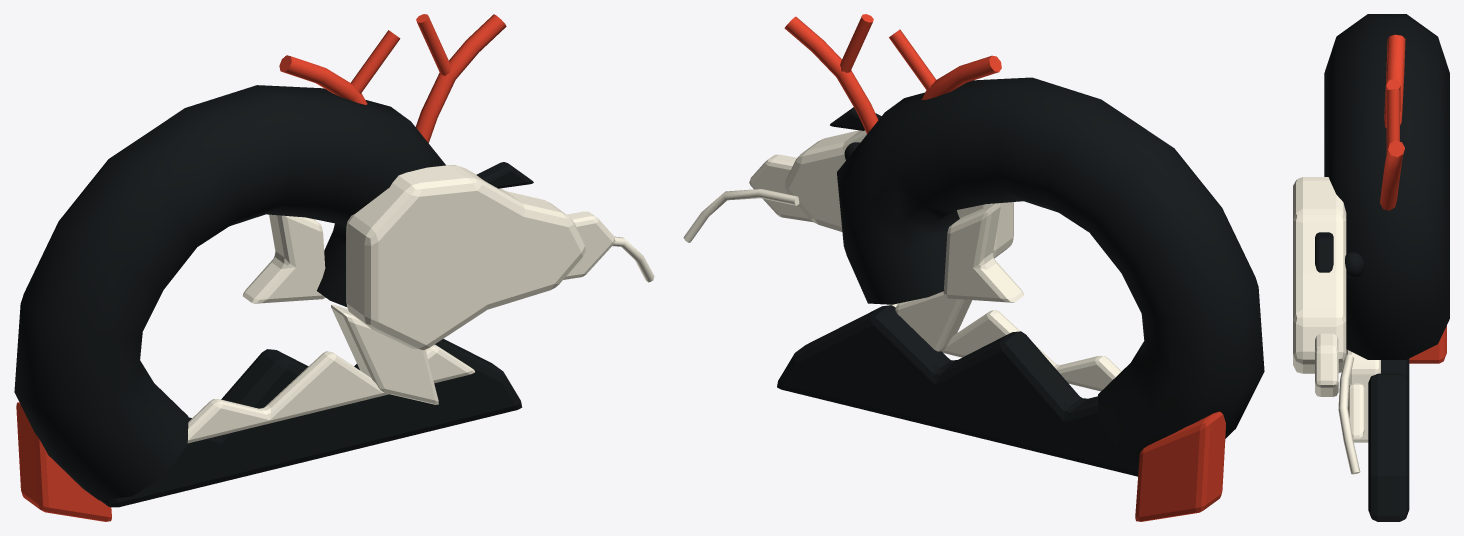
The picture shows the model from 3 angles, left to right: view 1: azimuth 30°, elevation 25°; view 2: azimuth 150°, elevation 25°; view 3: azimuth 270°, elevation 25°; orthographic projection. The views are drawn at different scales.
Visible parts, largest first — view 1: 512 unmistakable C coil, 512 huge dragon head, 512 ink wave, 512 paper foam, 512 cheek mane, 512 front claw, 512 cinnabar tail blade, 512 antler B, 512 long dragon muzzle, 512 antler A, 512 antler A fork, 512 brow (+1 smaller); view 2: 512 unmistakable C coil, 512 ink wave, 512 cinnabar tail blade, 512 huge dragon head, 512 cheek mane, 512 paper foam, 512 front claw, 512 antler B, 512 long dragon muzzle, 512 antler A, 512 whisker, 512 antler A fork (+1 smaller); view 3: 512 unmistakable C coil, 512 huge dragon head, 512 ink wave, 512 long dragon muzzle, 512 whisker, 512 antler B, 512 antler A, 512 front claw, 512 paper foam, 512 antler B fork, 512 brow, 512 cinnabar tail blade (+1 smaller).
Part boxes in pixels (<box>): 512 unmistakable C coil: <box>14,85,445,500</box>; 512 huge dragon head: <box>346,165,585,350</box>; 512 ink wave: <box>100,339,522,507</box>; 512 paper foam: <box>187,344,474,443</box>; 512 cheek mane: <box>243,214,325,303</box>; 512 front claw: <box>331,304,438,404</box>; 512 cinnabar tail blade: <box>16,402,111,521</box>; 512 antler B: <box>415,14,506,143</box>; 512 long dragon muzzle: <box>563,211,615,279</box>; 512 antler A: <box>279,55,367,104</box>; 512 antler A fork: <box>351,30,400,93</box>; 512 brow: <box>476,162,533,188</box>; 512 unmistakable C coil: <box>837,77,1264,462</box>; 512 ink wave: <box>777,305,1138,476</box>; 512 cinnabar tail blade: <box>1135,411,1225,521</box>; 512 huge dragon head: <box>784,130,1013,258</box>; 512 cheek mane: <box>943,203,1023,302</box>; 512 paper foam: <box>890,303,1121,391</box>; 512 front claw: <box>895,291,972,351</box>; 512 antler B: <box>784,16,878,133</box>; 512 long dragon muzzle: <box>749,154,813,222</box>; 512 antler A: <box>921,55,1001,100</box>; 512 whisker: <box>683,189,799,242</box>; 512 antler A fork: <box>889,29,936,90</box>; 512 unmistakable C coil: <box>1324,14,1449,359</box>; 512 huge dragon head: <box>1293,177,1346,373</box>; 512 ink wave: <box>1368,359,1409,521</box>; 512 long dragon muzzle: <box>1315,333,1338,396</box>; 512 whisker: <box>1338,354,1360,474</box>; 512 antler B: <box>1380,140,1404,210</box>; 512 antler A: <box>1384,34,1405,127</box>; 512 front claw: <box>1346,349,1380,442</box>; 512 paper foam: <box>1348,383,1365,438</box>; 512 antler B fork: <box>1386,89,1399,153</box>; 512 brow: <box>1315,232,1333,272</box>; 512 cinnabar tail blade: <box>1409,325,1446,363</box>.
Size of the model in its own units: 2.17 by 1.47 by 0.5.
